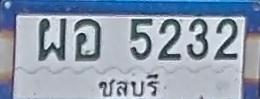2: (158, 18, 181, 60), (215, 18, 238, 59)
3: (187, 18, 208, 59)
5: (130, 18, 152, 60)
A28: (38, 17, 67, 61)
A43: (74, 18, 101, 61)
CBI: (93, 70, 162, 99)
